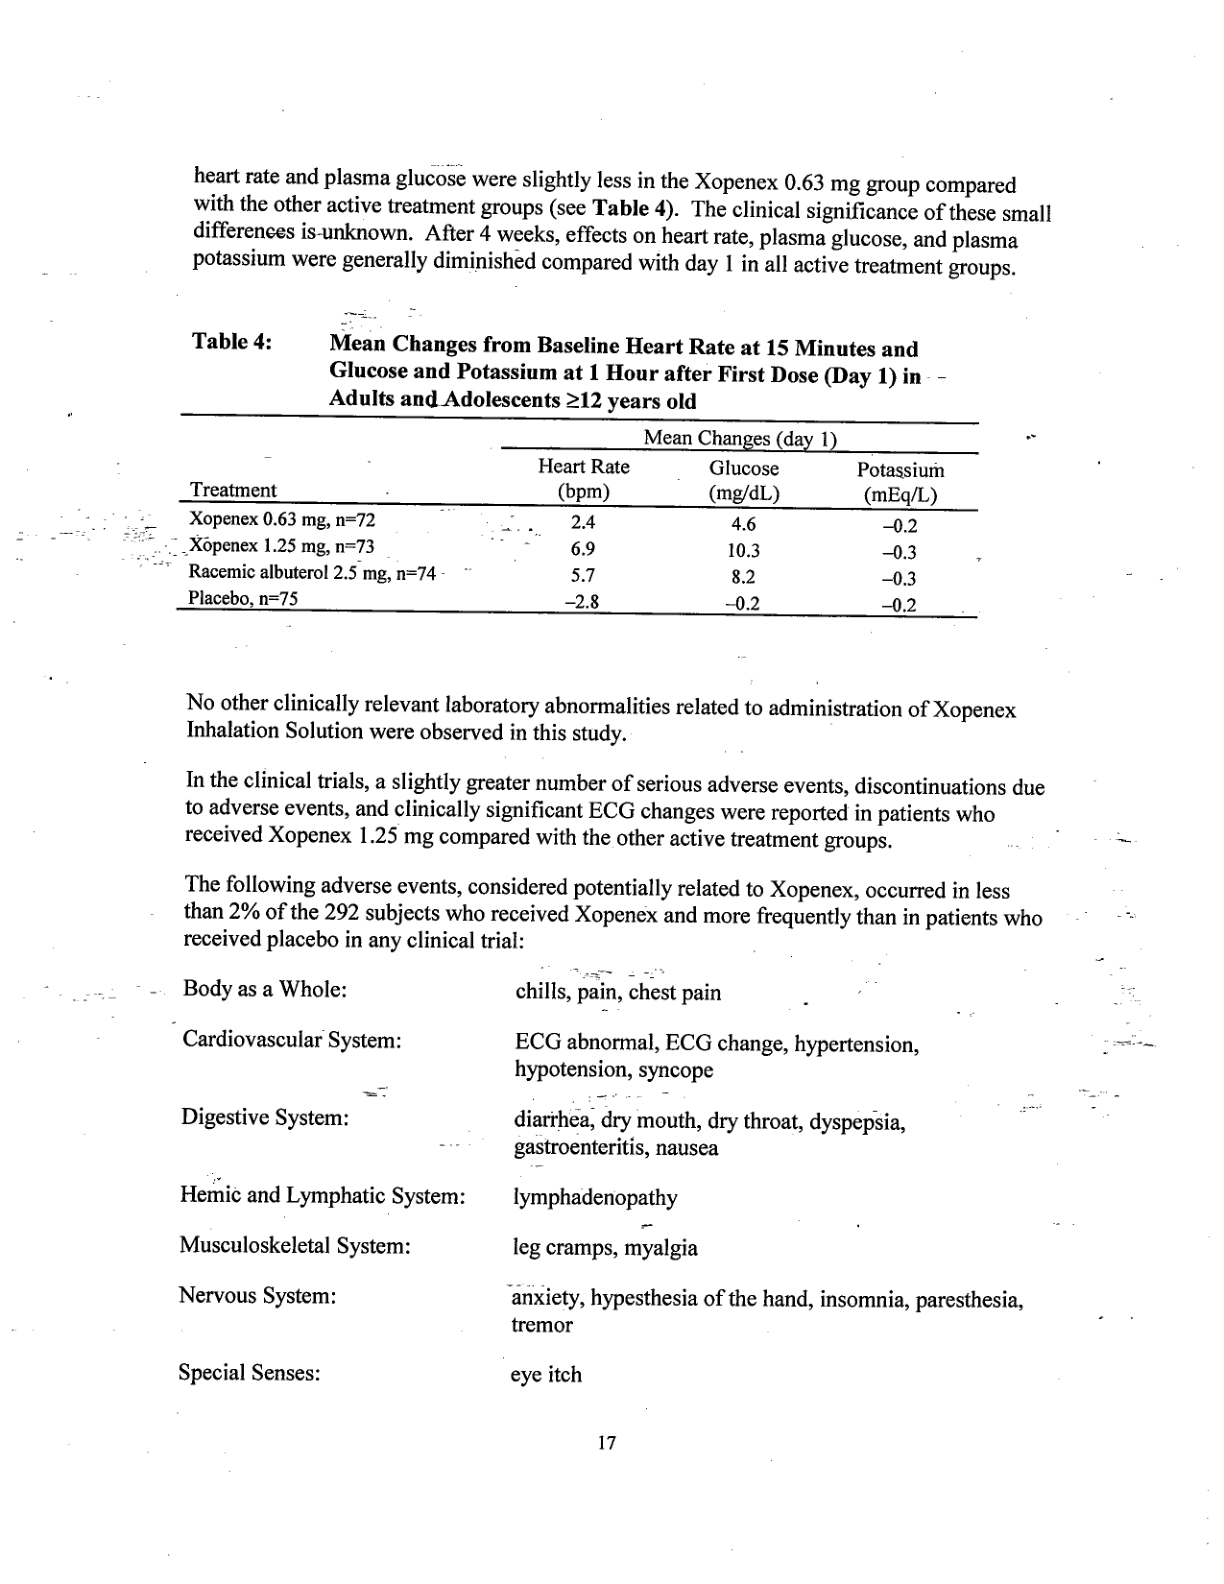nolines: (175, 972, 1026, 1391)
partial_lined: (174, 411, 980, 618)
